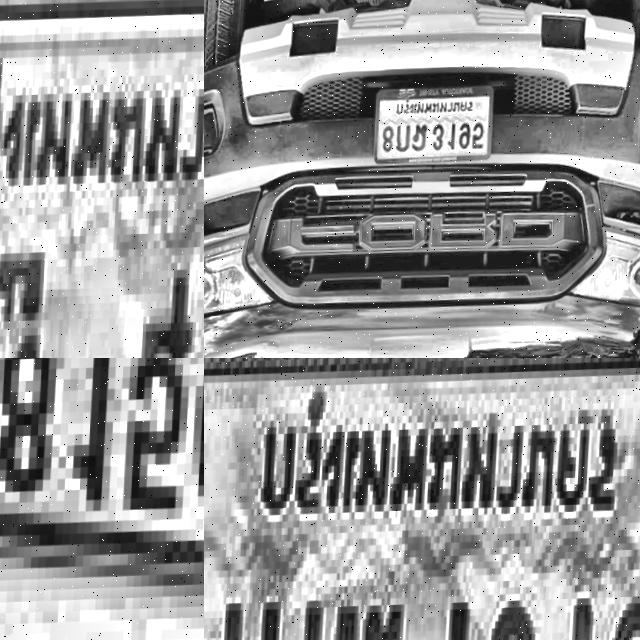license-plate: (204, 358, 640, 640), (0, 0, 204, 358), (0, 358, 204, 624), (373, 84, 495, 169)
